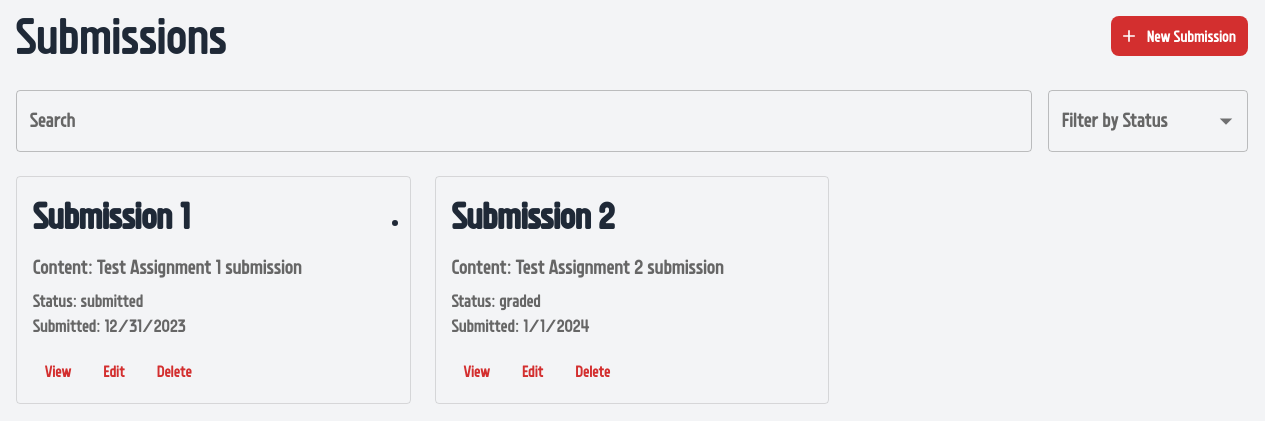
Test: SubmissionList › Filtering and Sorting › filters submissions by search term
The width and height of the screenshot is (1265, 421).
Expected: the text "Content: Test Assignment 1 submission" is shown, [33,255,302,278]
In the field with placeholder "Search submissions...": (524, 121) [16,90,1032,152], type "Assignment 1"
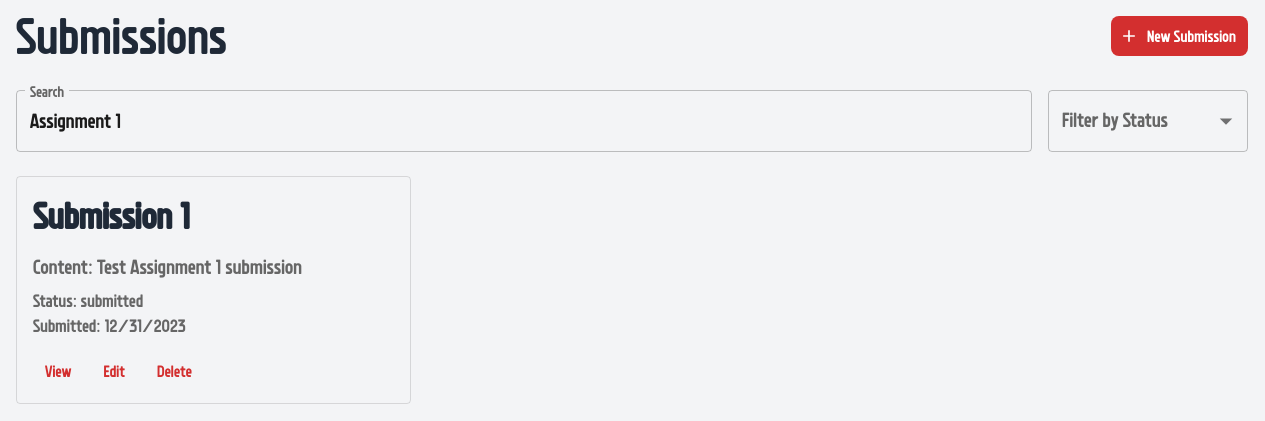
Expected: the text "Content: Test Assignment 1 submission" is shown, [33,255,302,278]
Now the text "Content: Test Assignment 2 submission" is gone
